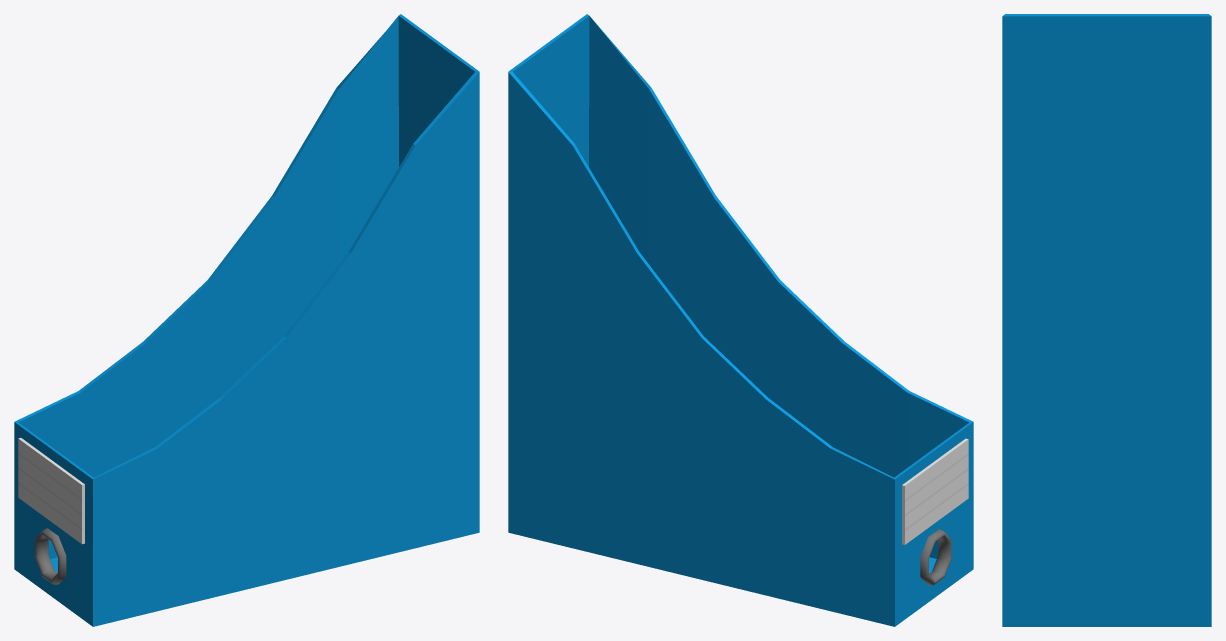
The model's file is File Holder01.fbx.
The picture shows the model from 3 angles, left to right: view 1: azimuth 30°, elevation 25°; view 2: azimuth 150°, elevation 25°; view 3: azimuth 270°, elevation 25°; orthographic projection. The views are drawn at different scales.
Parts seen in each view (by area): view 1: File Holder01; view 2: File Holder01; view 3: File Holder01.
Boxes of the visible parts, <box> form: File Holder01: <box>14,14,479,626</box>; File Holder01: <box>508,14,973,626</box>; File Holder01: <box>1002,14,1211,626</box>.
Bounding box in the file's own units: 0.3018 × 0.1049 × 0.3382.
